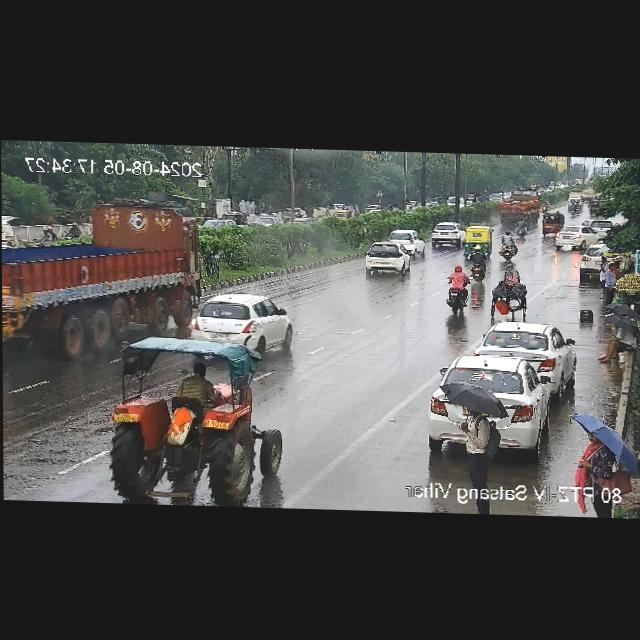car: (427, 360, 553, 455), (473, 319, 576, 391), (194, 294, 295, 353), (581, 243, 629, 287), (362, 243, 411, 276), (552, 225, 597, 251), (386, 231, 425, 255), (463, 226, 495, 255), (429, 223, 463, 250), (539, 211, 564, 236)
motorcycle: (440, 266, 470, 315), (465, 248, 486, 280), (501, 229, 515, 261), (512, 215, 529, 240), (569, 200, 580, 218)
person: (440, 381, 506, 483), (562, 406, 638, 485), (601, 307, 640, 370), (598, 259, 620, 311)
truck: (1, 187, 203, 361), (110, 335, 280, 502), (497, 181, 540, 226)
